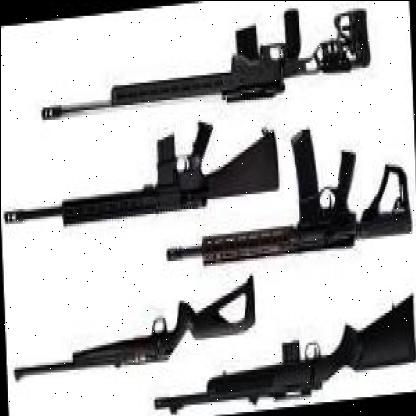rifle: (34, 0, 372, 129), (0, 112, 282, 238), (153, 325, 416, 416)
